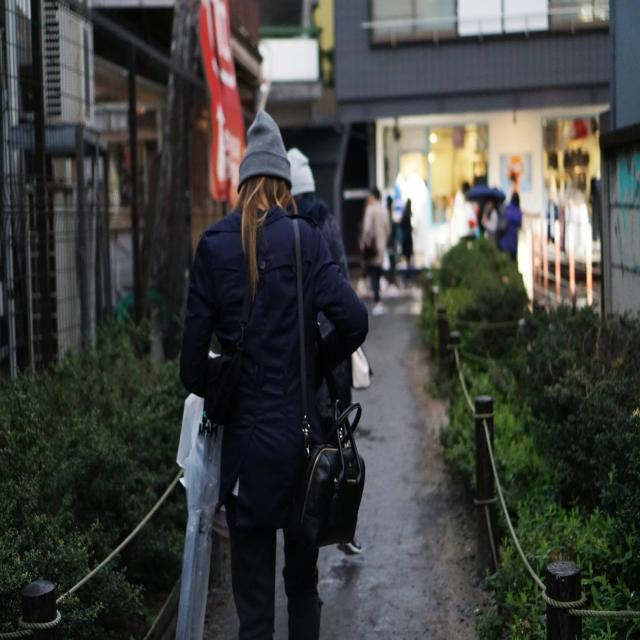body: (178, 106, 373, 639), (284, 148, 364, 554), (358, 186, 387, 304), (383, 195, 414, 292), (453, 180, 481, 242), (499, 191, 523, 263), (480, 198, 498, 262), (496, 190, 510, 234)
